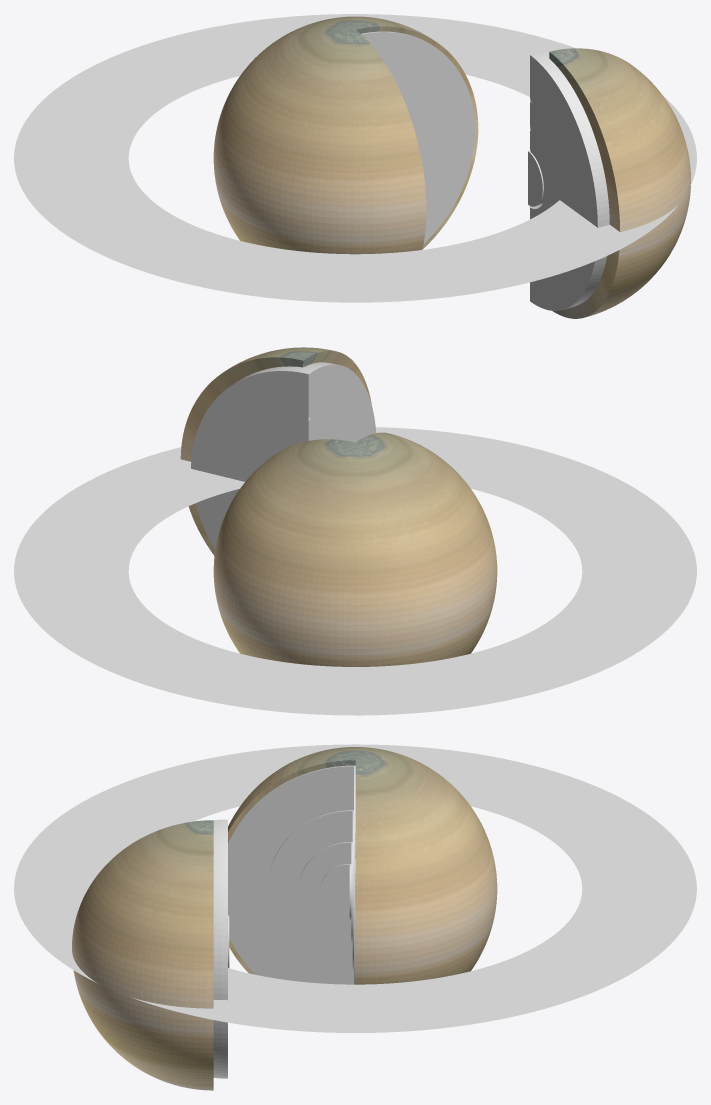
Rendered from saturnus.fbx.
The picture shows the model from 3 angles, top to bottom: view 1: azimuth 30°, elevation 25°; view 2: azimuth 150°, elevation 25°; view 3: azimuth 270°, elevation 25°; orthographic projection.
Parts seen in each view (by area): view 1: Circle, merkurius, Sphere.001, Sphere.003, merkurius.001, Sphere.006, merkurius.002, Sphere.007, core; view 2: Circle, merkurius, Sphere.003, Sphere.001, Sphere.006; view 3: Circle, merkurius, Sphere.001, merkurius.001, merkurius.002, Sphere.003, merkurius.003, merkurius.004.
Part boxes in pixels (x1,y1,x2,y2): Circle: (14, 14, 696, 302); merkurius: (213, 16, 478, 254); Sphere.001: (549, 48, 690, 318); Sphere.003: (530, 52, 609, 310); merkurius.001: (361, 31, 475, 243); Sphere.006: (530, 101, 571, 209); merkurius.002: (395, 80, 432, 175); Sphere.007: (530, 130, 556, 219); core: (528, 151, 543, 206); Circle: (14, 427, 696, 715); merkurius: (213, 432, 497, 666); Sphere.003: (191, 362, 376, 548); Sphere.001: (180, 347, 371, 555); Sphere.006: (235, 415, 346, 480); Circle: (14, 744, 696, 1032); merkurius: (228, 747, 497, 984); Sphere.001: (72, 820, 213, 1090); merkurius.001: (228, 765, 355, 984); merkurius.002: (268, 810, 353, 971); Sphere.003: (213, 819, 227, 1078); merkurius.003: (298, 842, 352, 943); merkurius.004: (320, 864, 351, 920).
Bounding box in the file's own units: 482 × 200 × 482.
7 materials, 2 textured.
